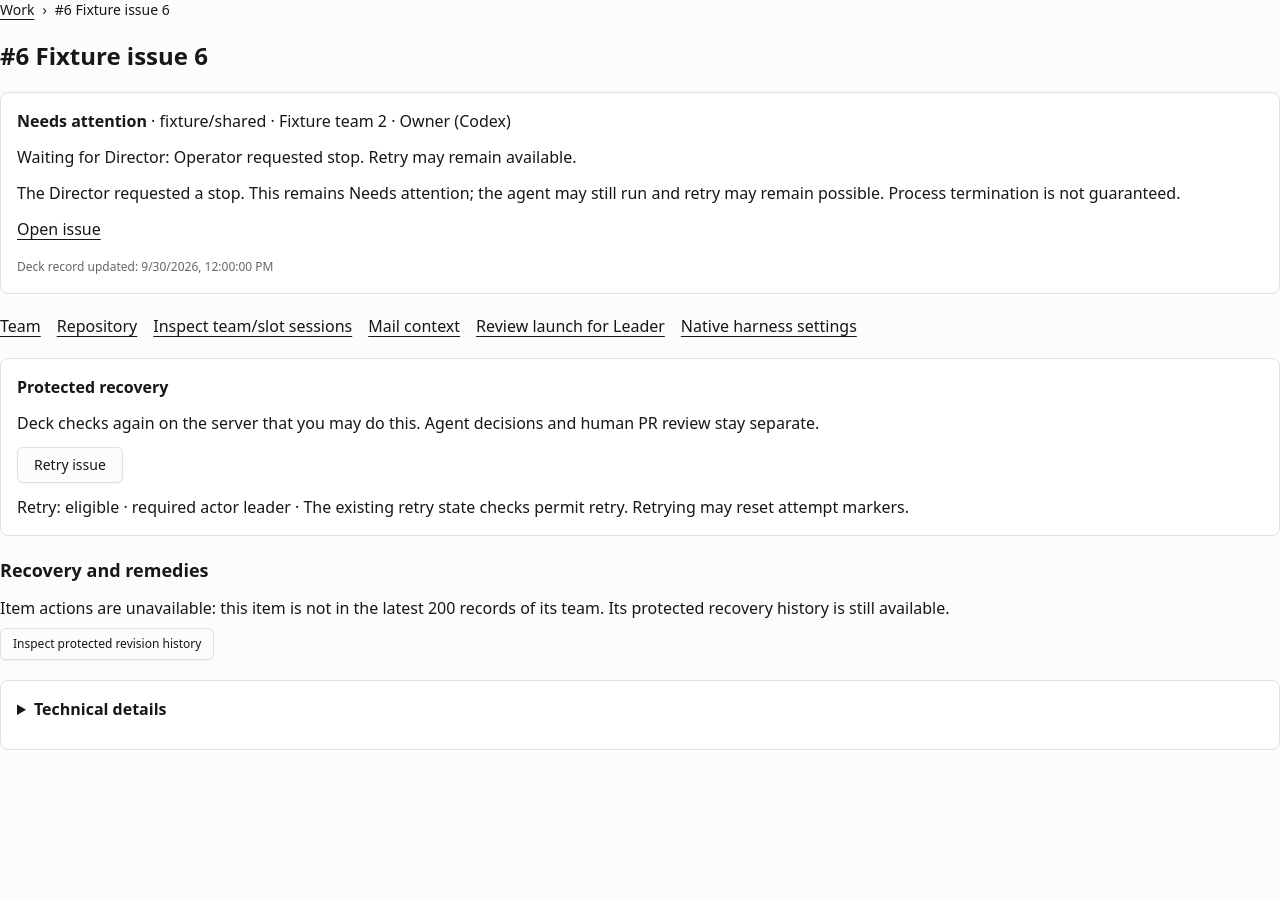
it: work details and protected controls › cancel leaves retry untouched with cached credential=false
This screenshot has width=1280, height=900.
Click the button "Retry issue".
click(70, 465)  # box left=17, top=447, right=123, bottom=483
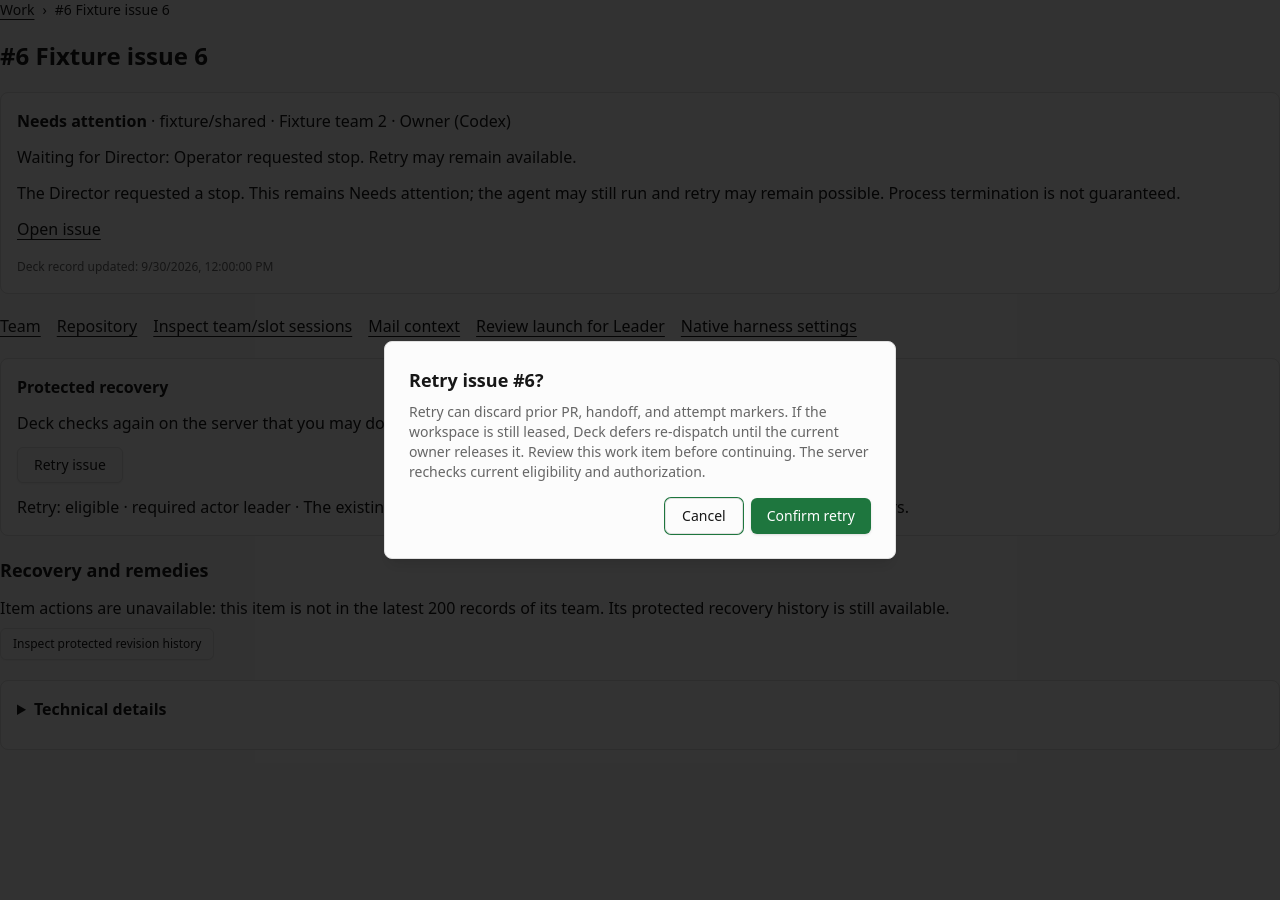
Result: the text "until the current owner releases it" is shown at left=409, top=402, right=869, bottom=481
Click the button "Cancel".
click(704, 516)  # box left=665, top=498, right=743, bottom=534
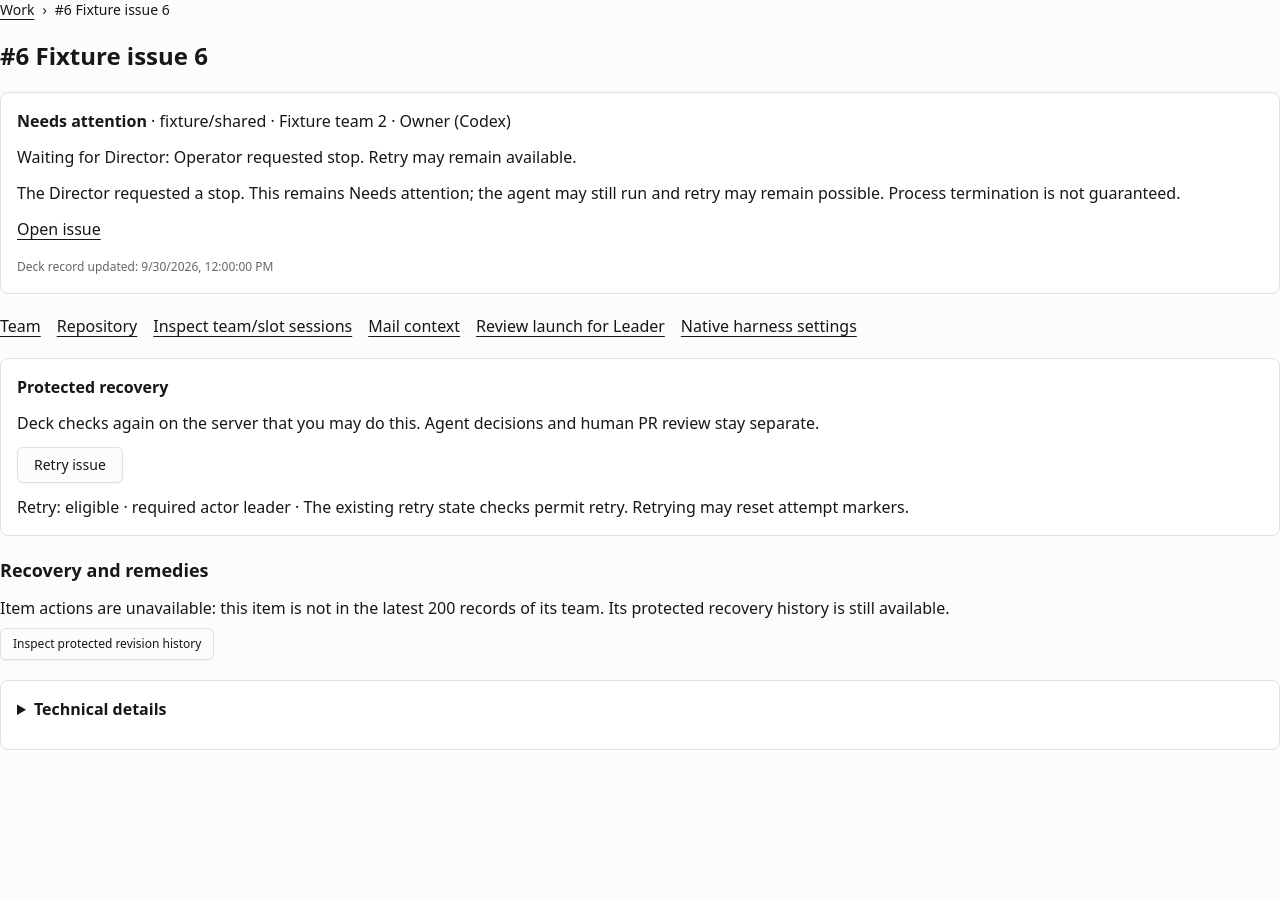
Result: the dialog is gone
